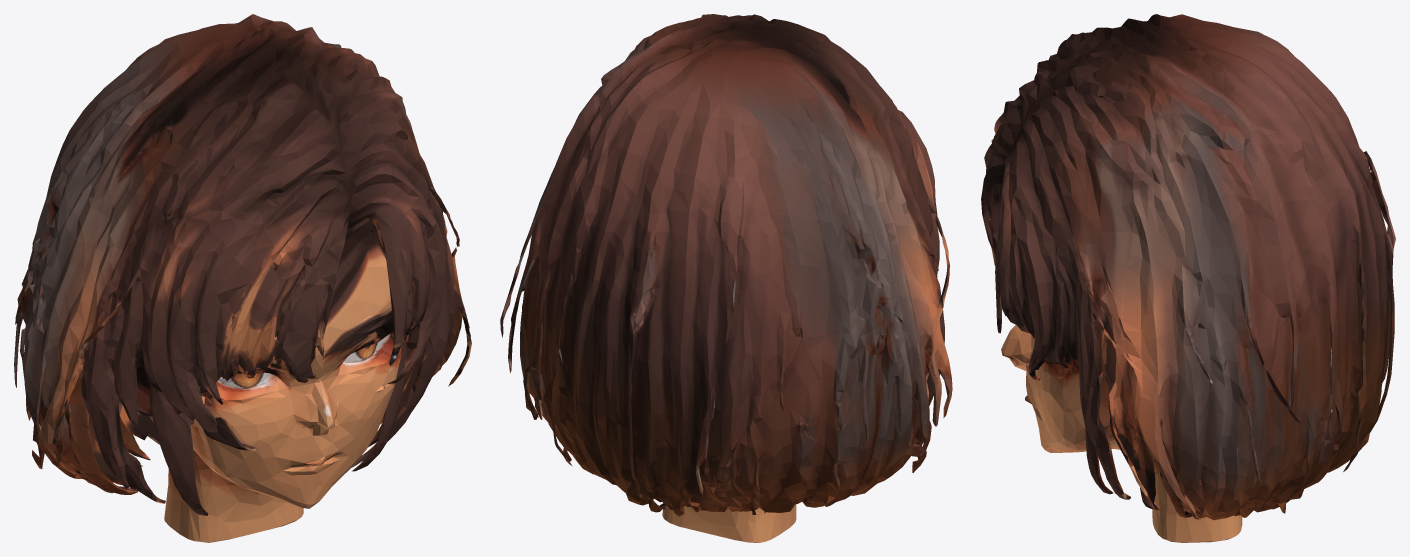
Rendered from side_sachiko_repaired_atlas.glb.
The picture shows the model from 3 angles, left to right: view 1: azimuth 30°, elevation 25°; view 2: azimuth 150°, elevation 25°; view 3: azimuth 270°, elevation 25°; orthographic projection. The views are drawn at different scales.
Visible parts, largest first — view 1: temp_mesh.ply; view 2: temp_mesh.ply; view 3: temp_mesh.ply.
Part boxes in pixels (box(x1,y1,x2,y2)): temp_mesh.ply: box(14, 14, 471, 542); temp_mesh.ply: box(500, 14, 952, 542); temp_mesh.ply: box(981, 14, 1395, 542).
Size of the model in its own units: 1.76 by 1.97 by 1.53.
1 material, 1 textured.
